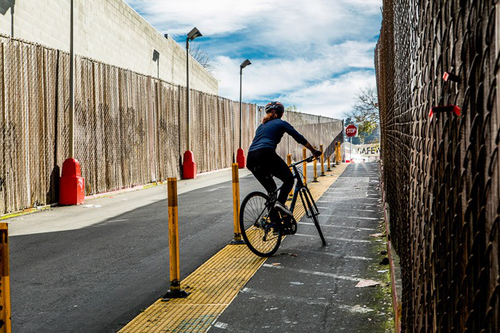bikerider: (225, 94, 332, 261)
